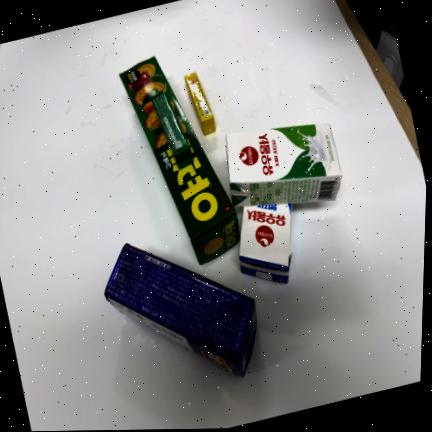cracker_ace: (103, 243, 259, 381)
cracker_vege: (118, 56, 241, 267)
gum_yellow: (185, 72, 218, 136)
milk_blue: (238, 204, 293, 285)
milk_green: (225, 123, 342, 205)
